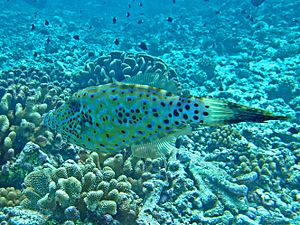Aluterus_scriptus: (47, 73, 290, 157)
